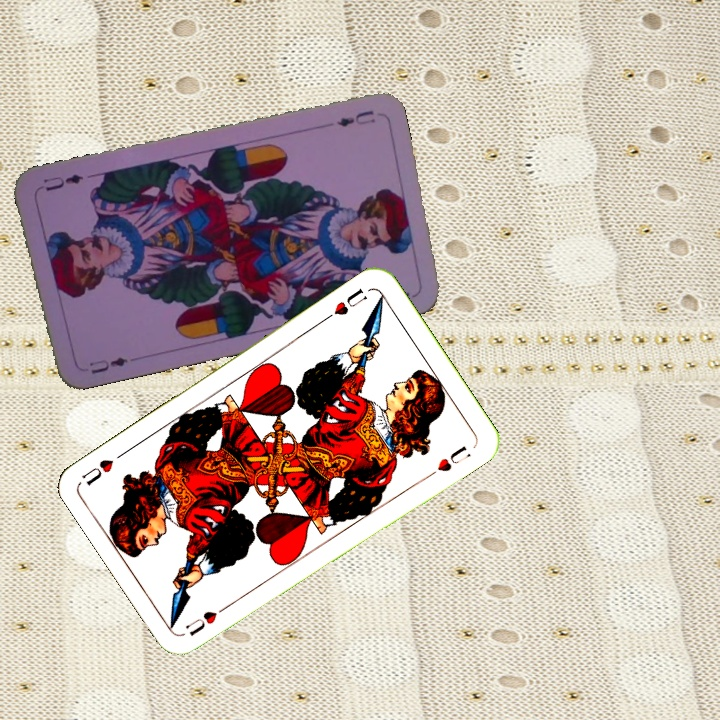EU: (85, 353, 131, 377), (332, 106, 378, 130)
HU: (181, 599, 234, 639), (320, 284, 370, 323)
